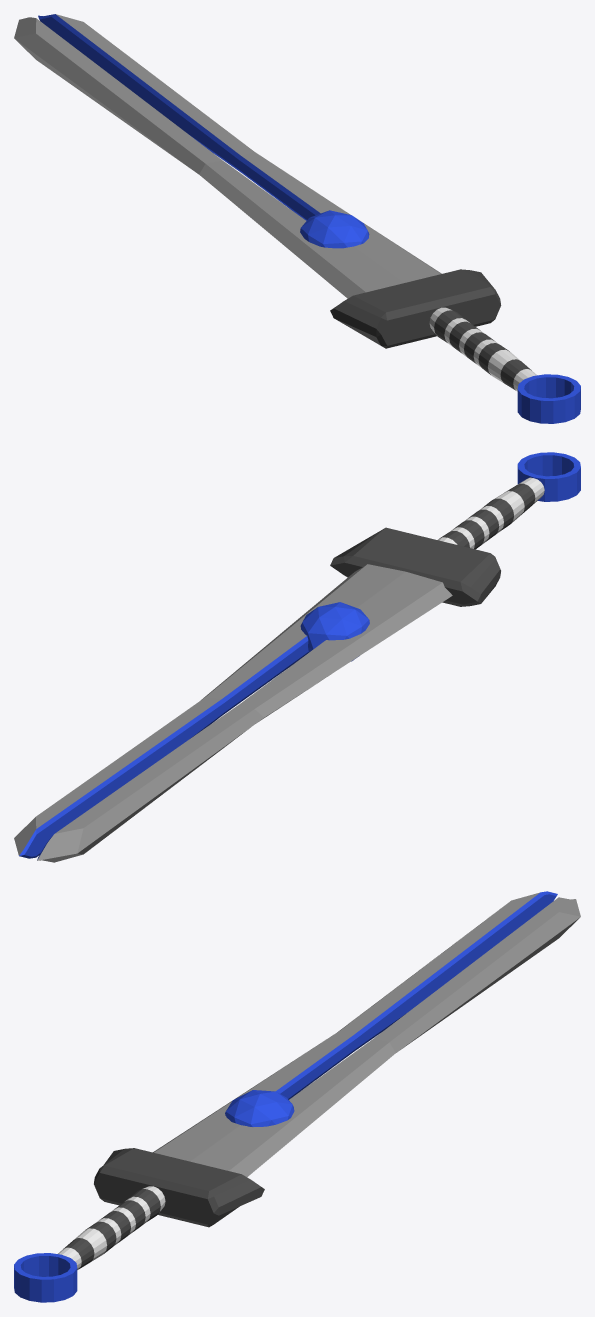
3 views of the same model, one above another, from view 1: azimuth 30°, elevation 25°; view 2: azimuth 150°, elevation 25°; view 3: azimuth 330°, elevation 25° (orthographic).
Parts seen in each view (by area): view 1: 82; view 2: 82; view 3: 82.
Part boxes in pixels (box(x1,y1,x2,y2)): 82: box(14, 14, 580, 423); 82: box(14, 452, 580, 862); 82: box(14, 891, 580, 1302).
Size of the model in its own units: 9.08 by 3.2 by 57.29.
